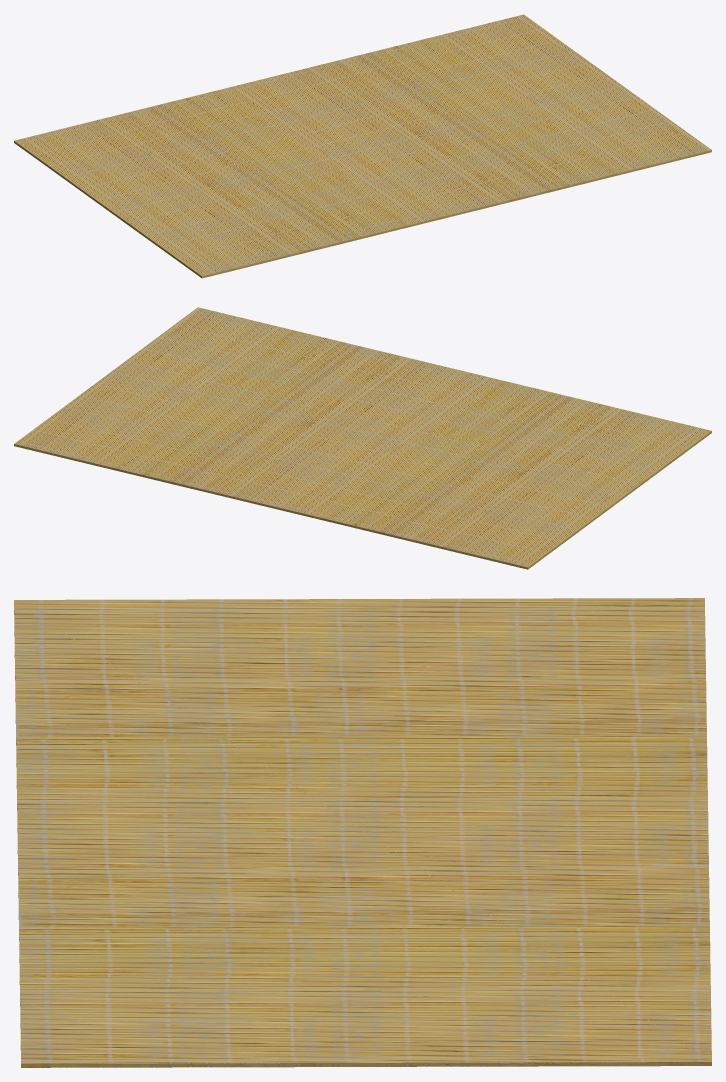
The model's file is _amboo.fbx.
3 views of the same model, one above another, from view 1: azimuth 30°, elevation 25°; view 2: azimuth 150°, elevation 25°; view 3: azimuth 270°, elevation 25° (orthographic). The views are drawn at different scales.
Visible parts, largest first — view 1: Box06; view 2: Box06; view 3: Box06.
Part boxes in pixels (left/top/right/bottom): Box06: left=14, top=14, right=711, bottom=278; Box06: left=14, top=307, right=711, bottom=569; Box06: left=14, top=598, right=711, bottom=1067.
Bounding box in the file's own units: 829 × 3.35 × 525.
Materials: 1 (1 with a texture image).
